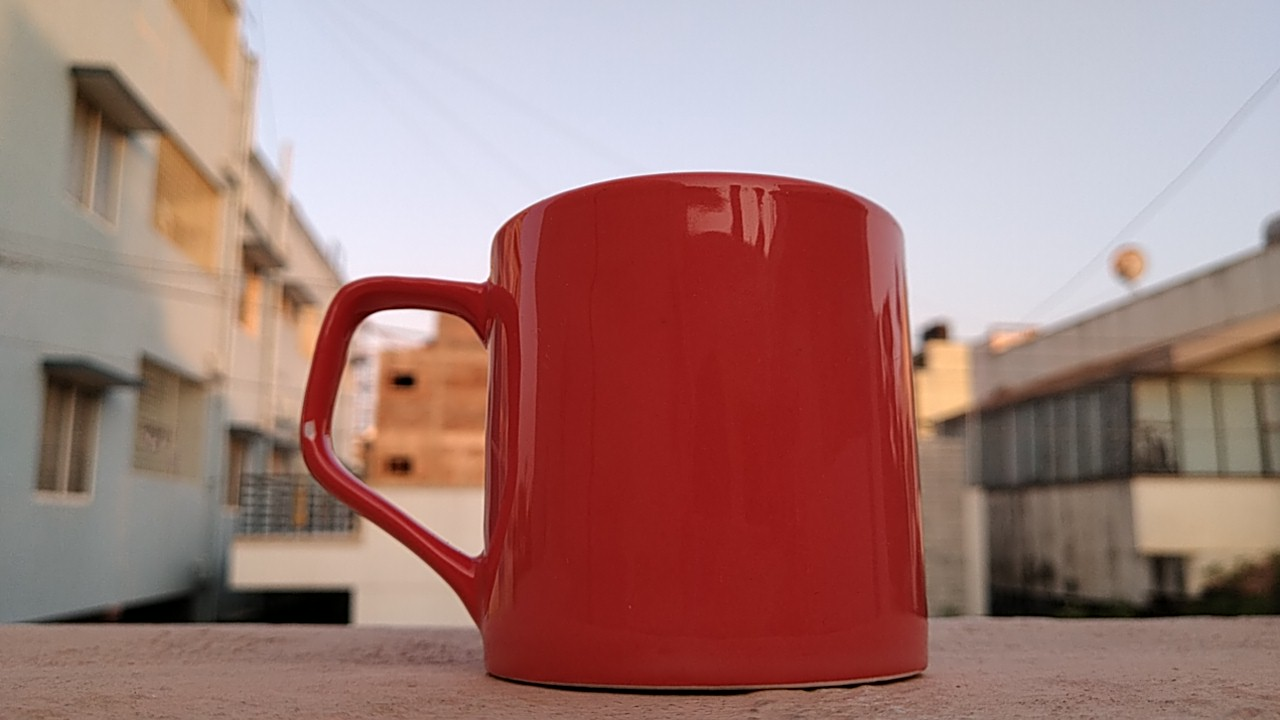cup: (271, 153, 948, 703)
